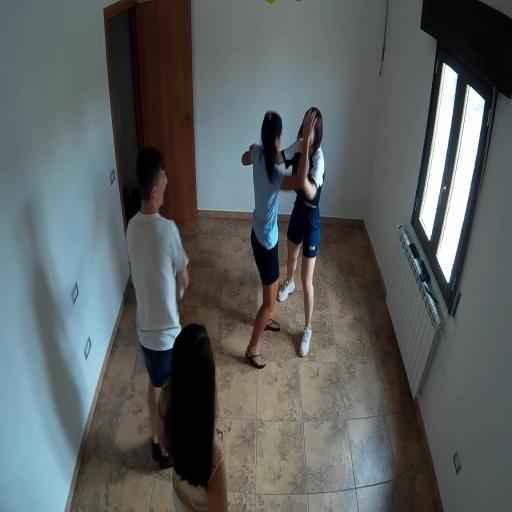violencia: (238, 81, 328, 376)
